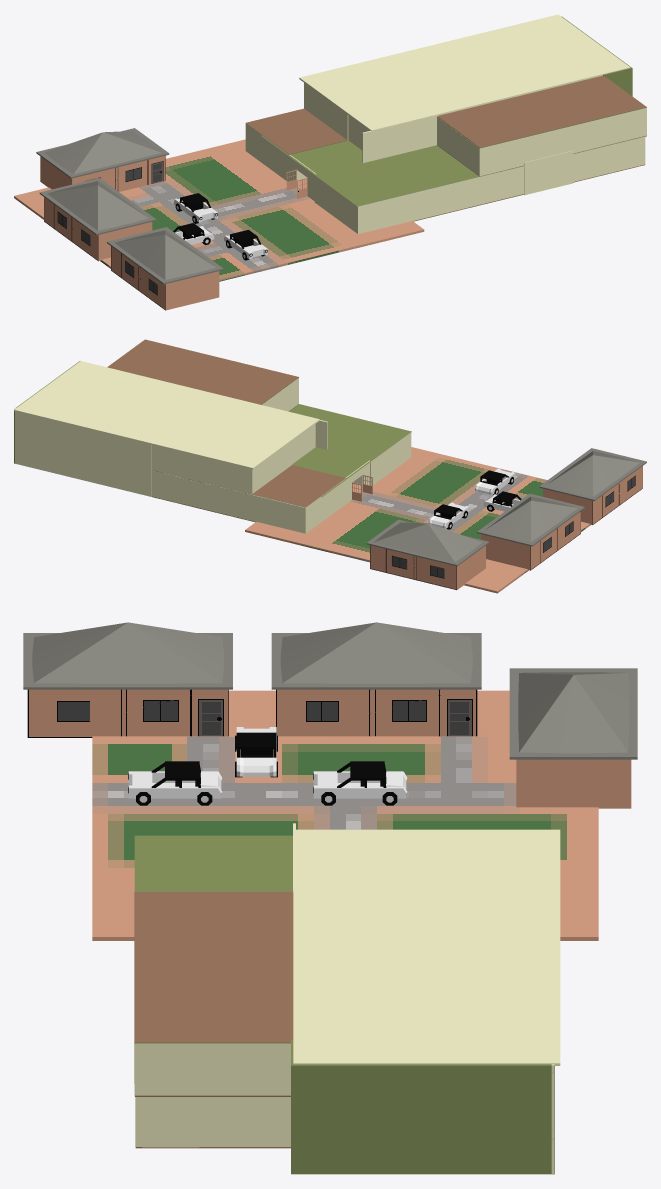
The model's file is apartment.glb.
3 renders of one model, top to bottom at view 1: azimuth 30°, elevation 25°; view 2: azimuth 150°, elevation 25°; view 3: azimuth 270°, elevation 25°, orthographic. The views are drawn at different scales.
Parts seen in each view (by area): view 1: Apartment2-col; view 2: Apartment2-col; view 3: Apartment2-col.
Boxes of the visible parts, <box> form: Apartment2-col: <box>14,14,646,310</box>; Apartment2-col: <box>14,339,646,593</box>; Apartment2-col: <box>23,622,637,1174</box>.
Bounding box in the file's own units: 60.42 × 6.51 × 32.15.
34 materials, 32 textured.
